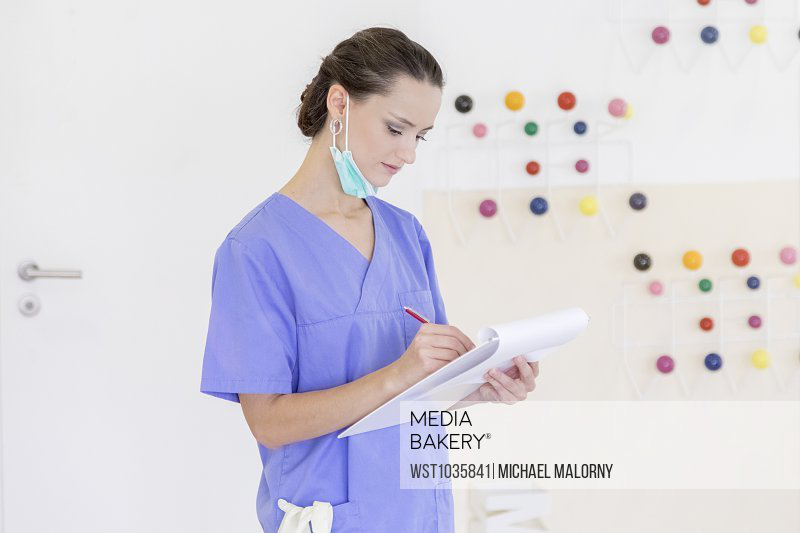mask_weared_incorrect: (323, 79, 440, 201)
